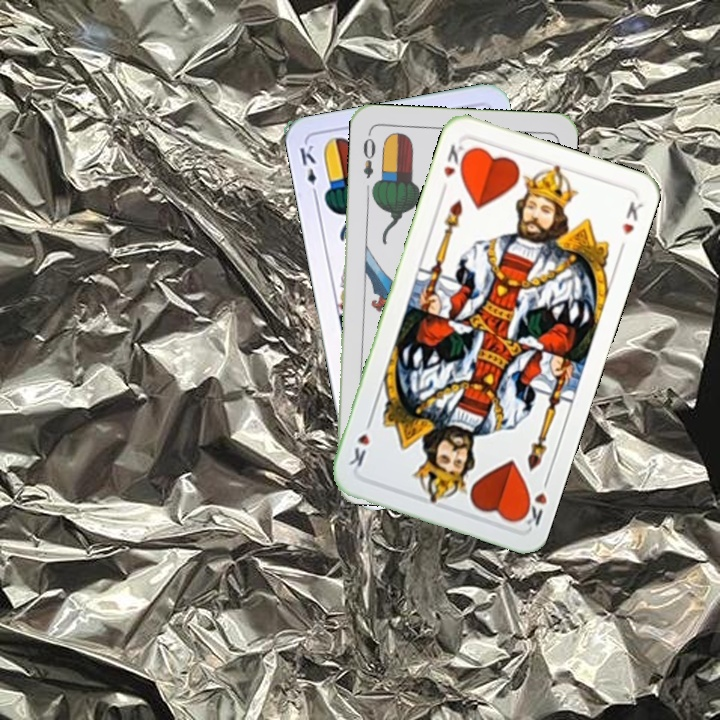EK: (295, 140, 320, 200)
EO: (359, 129, 379, 181)
HK: (516, 472, 552, 529), (439, 140, 471, 180)
